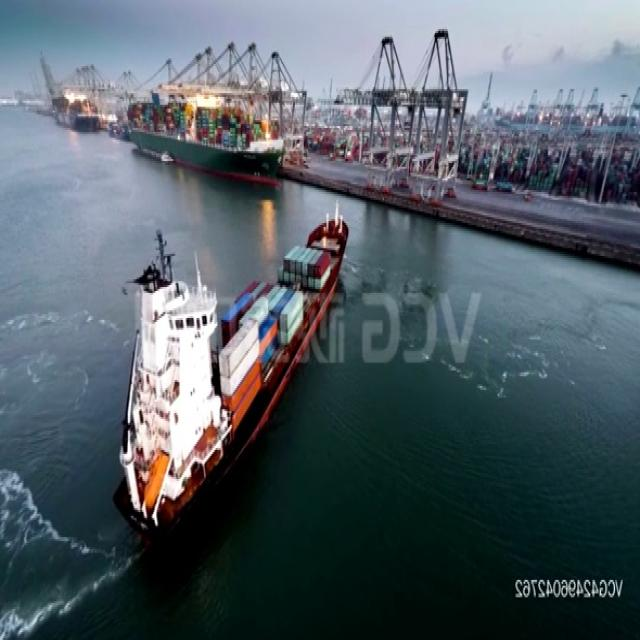cargoship: (110, 194, 351, 545)
